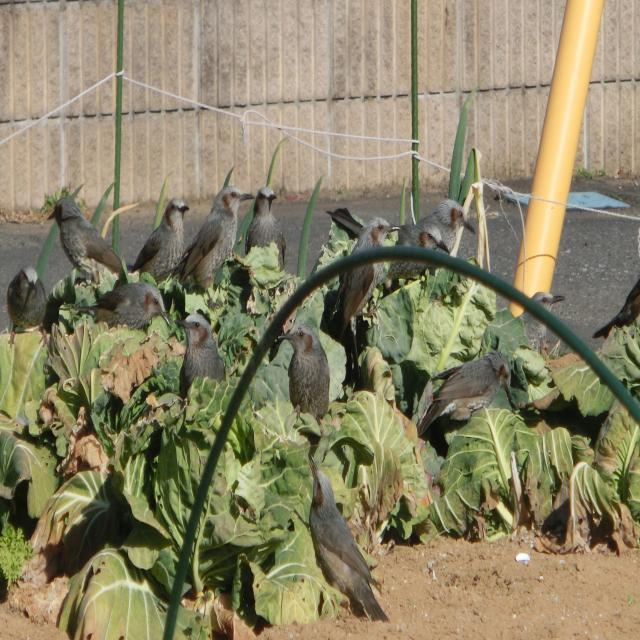bird: (300, 476, 388, 620), (415, 334, 518, 446), (40, 183, 116, 298), (184, 188, 256, 296), (335, 208, 390, 343), (108, 200, 191, 287), (395, 192, 475, 276), (282, 323, 333, 436), (173, 318, 224, 408), (168, 590, 242, 638)
